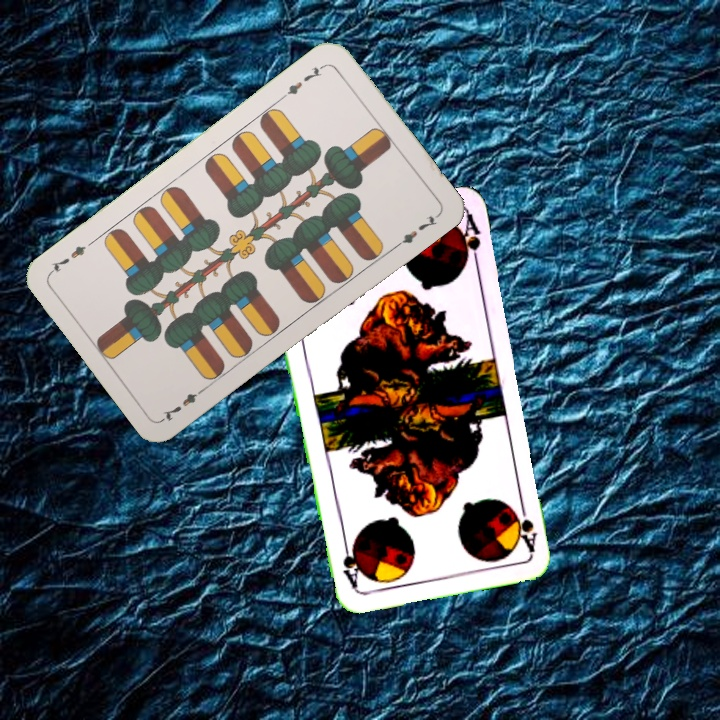E7: (158, 383, 210, 424), (278, 60, 329, 101)
SA: (508, 495, 540, 554)
